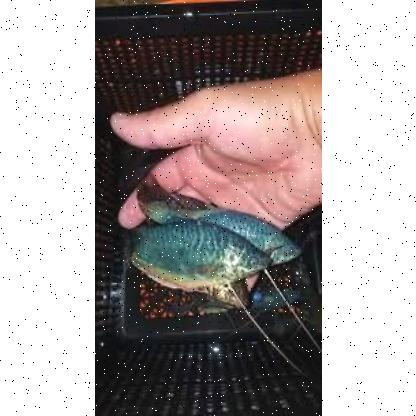gurame: (124, 214, 266, 296)
